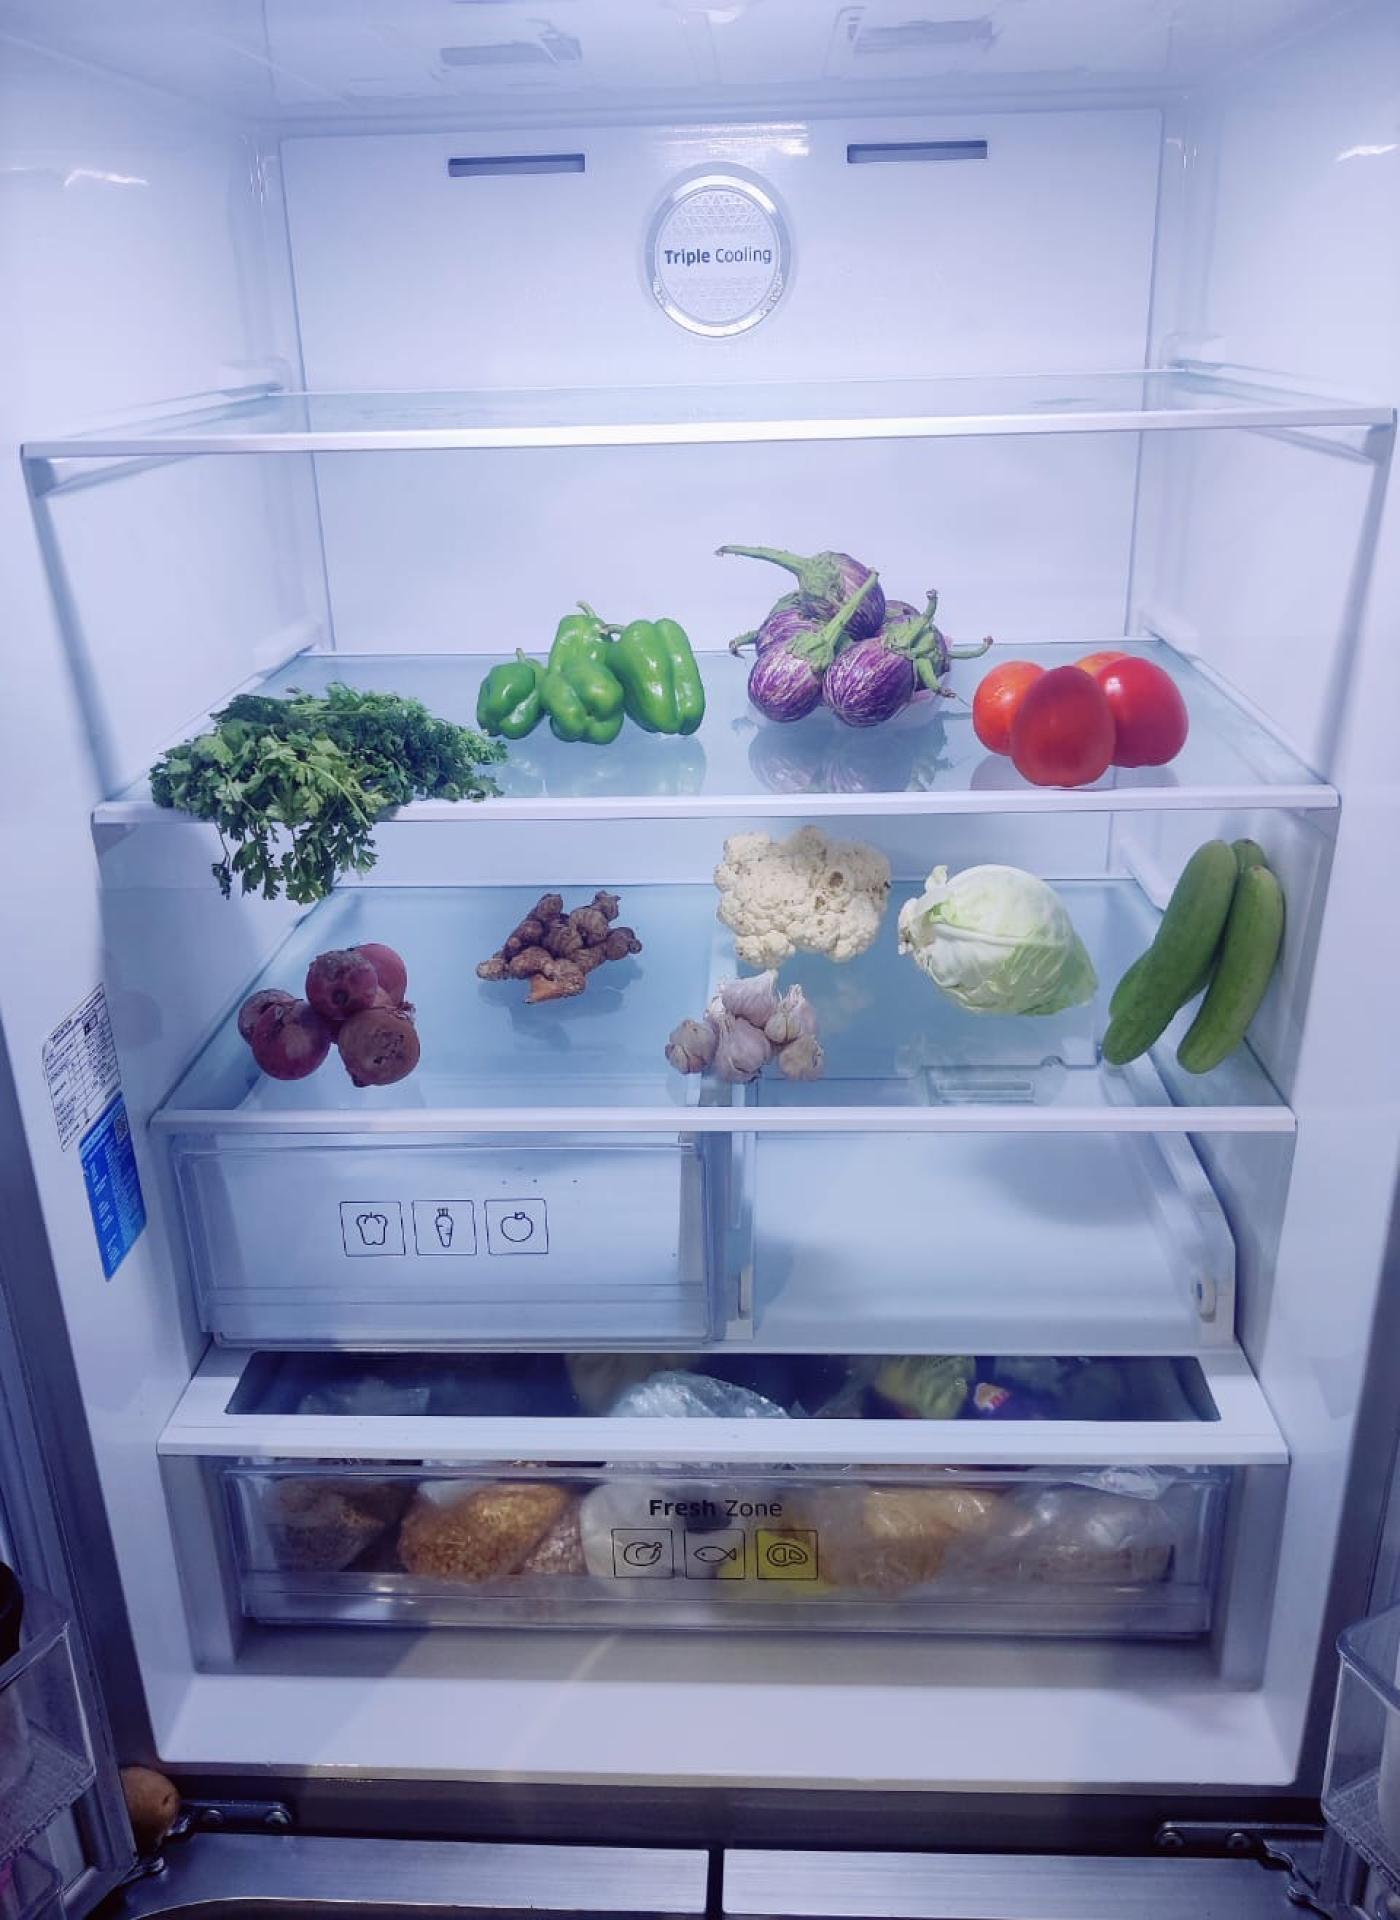brinjal: (726, 544, 957, 729)
cabbage: (904, 860, 1102, 1021)
capsicum: (471, 613, 702, 745)
cauliflower: (714, 821, 895, 963)
coriander: (155, 680, 498, 841)
cucumber: (1103, 823, 1290, 1078)
garlic: (666, 975, 832, 1088)
ginger: (477, 891, 638, 1005)
onion: (239, 944, 419, 1088)
tomato: (978, 644, 1197, 783)
